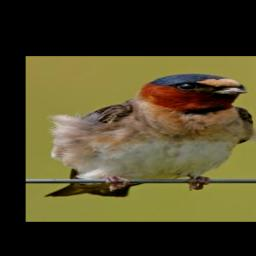Swallow: (43, 73, 256, 198)
